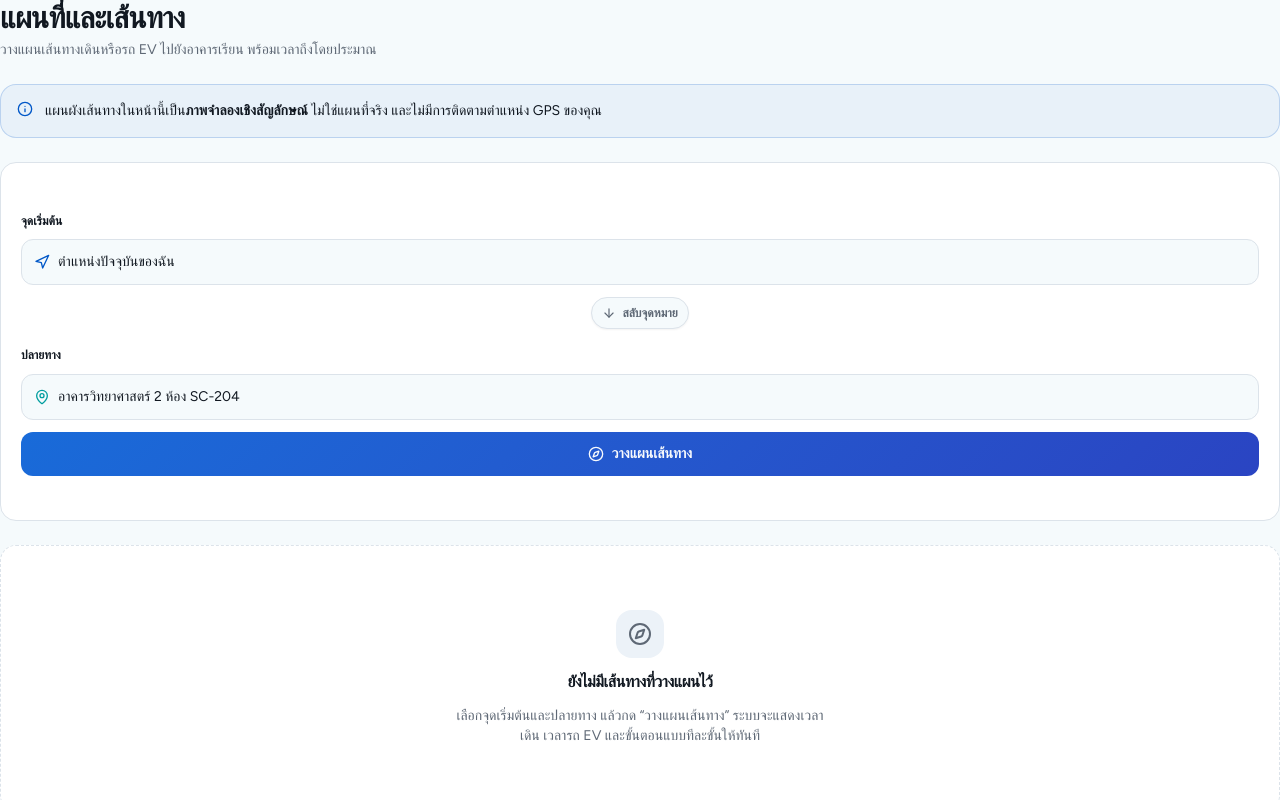
Test case: Smart Navigation › shows a Thai error state when planning fails
Step 1. Replace the text in the field with test id "navigate.origin_input" with "โรงอาหารกลาง" → (652, 262), box [58,240,1246,284]
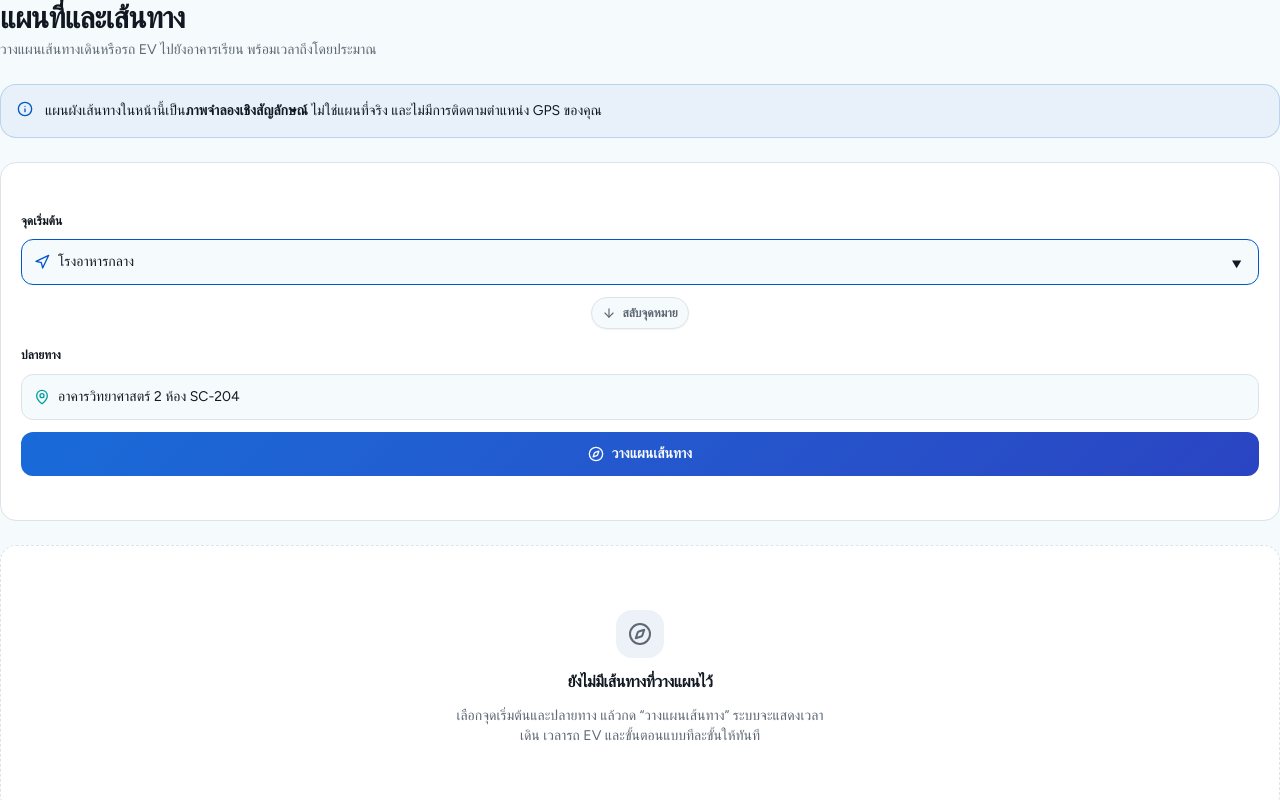
Step 2. Replace the text in the field with test id "navigate.destination_input" with "SC-204" → (652, 396), box [58,374,1246,418]
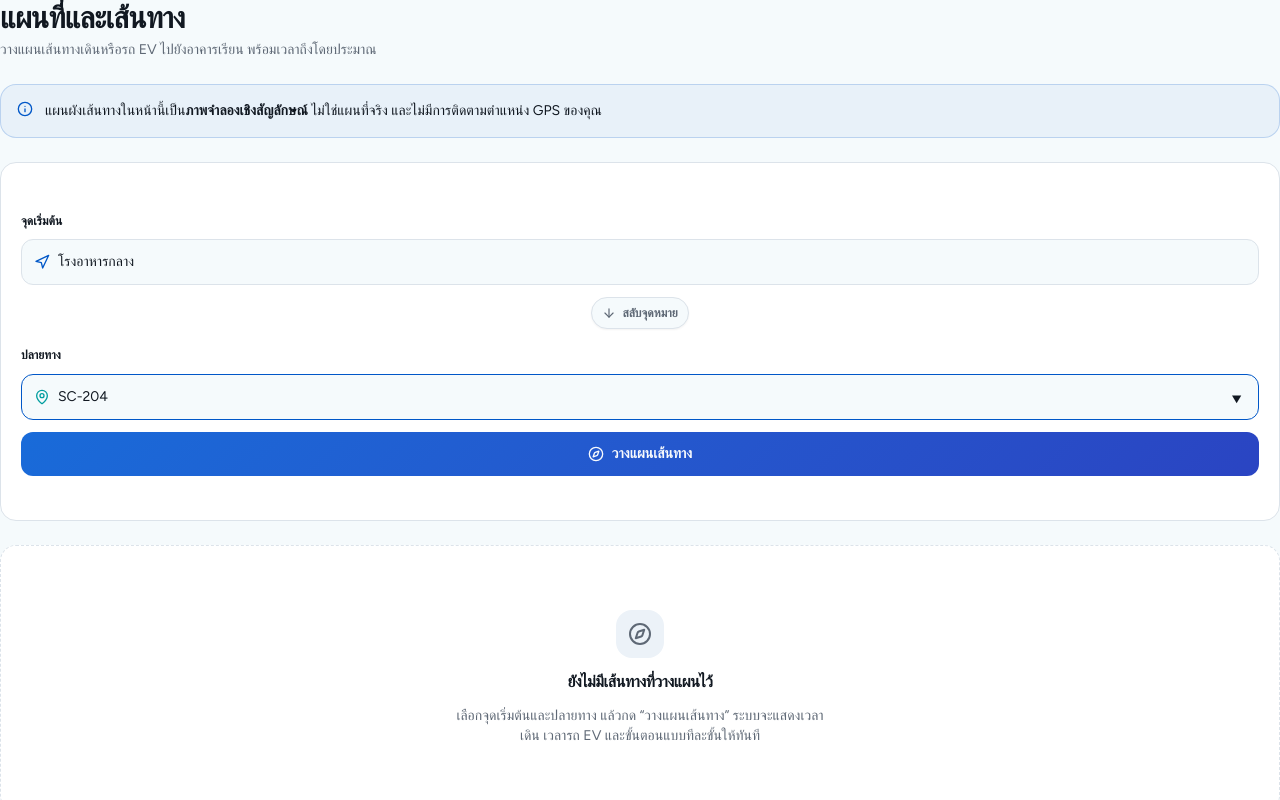
Step 3. Click the button with test id "navigate.plan_button" → (640, 454), box [21,432,1259,476]
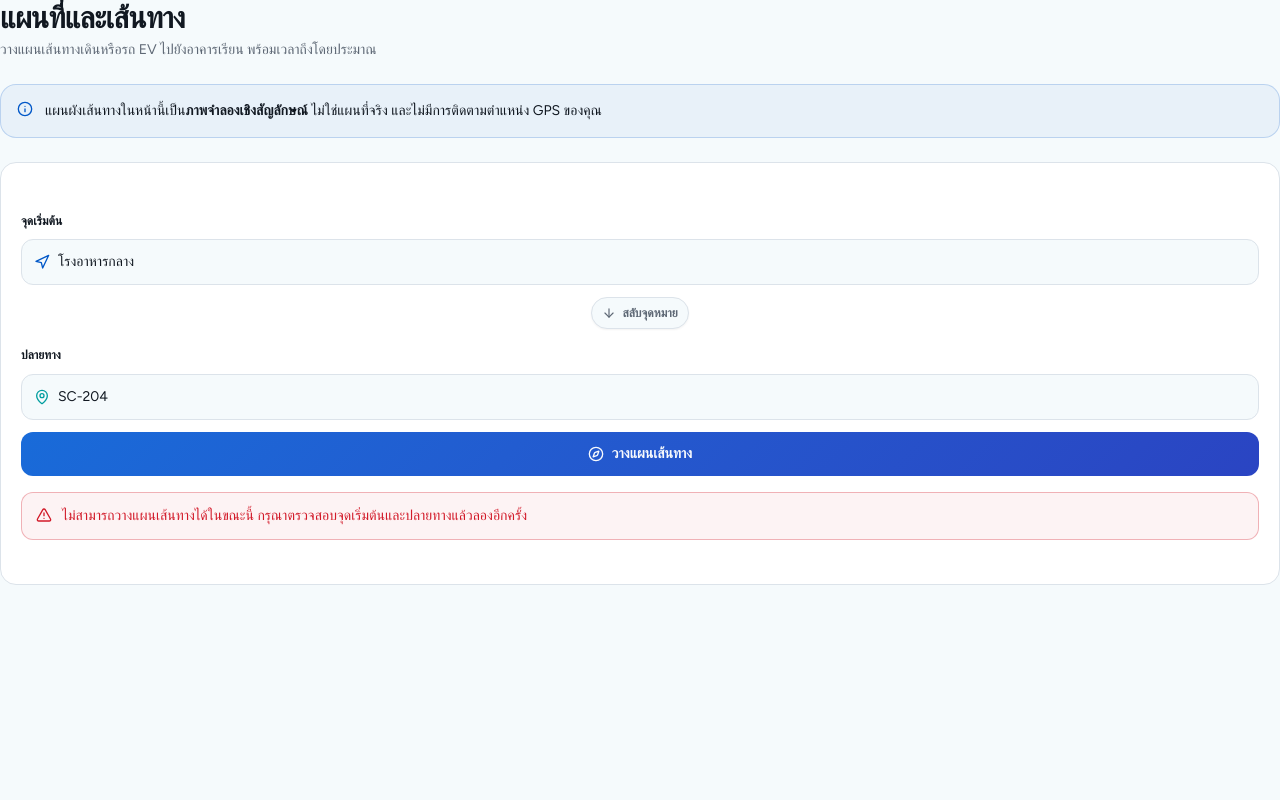
Now the message with test id "navigate.error_state" shows "ไม่สามารถวางแผนเส้นทางได้ในขณะนี้", box [62,506,527,524]
